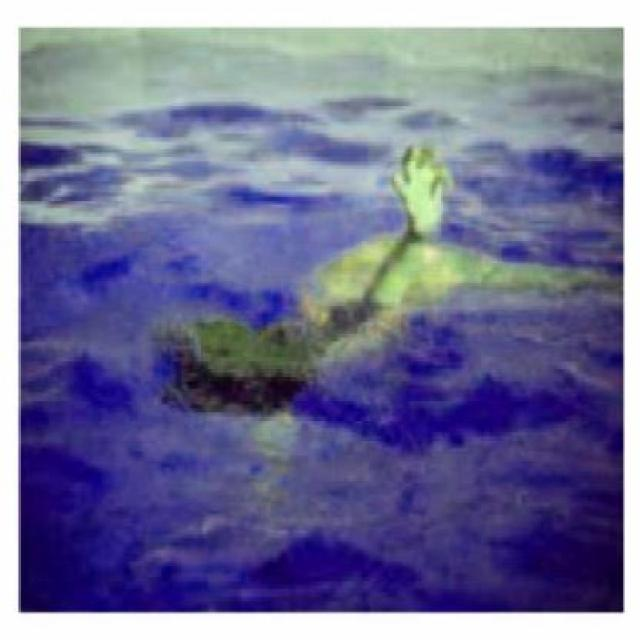drowning: (168, 158, 452, 422)
